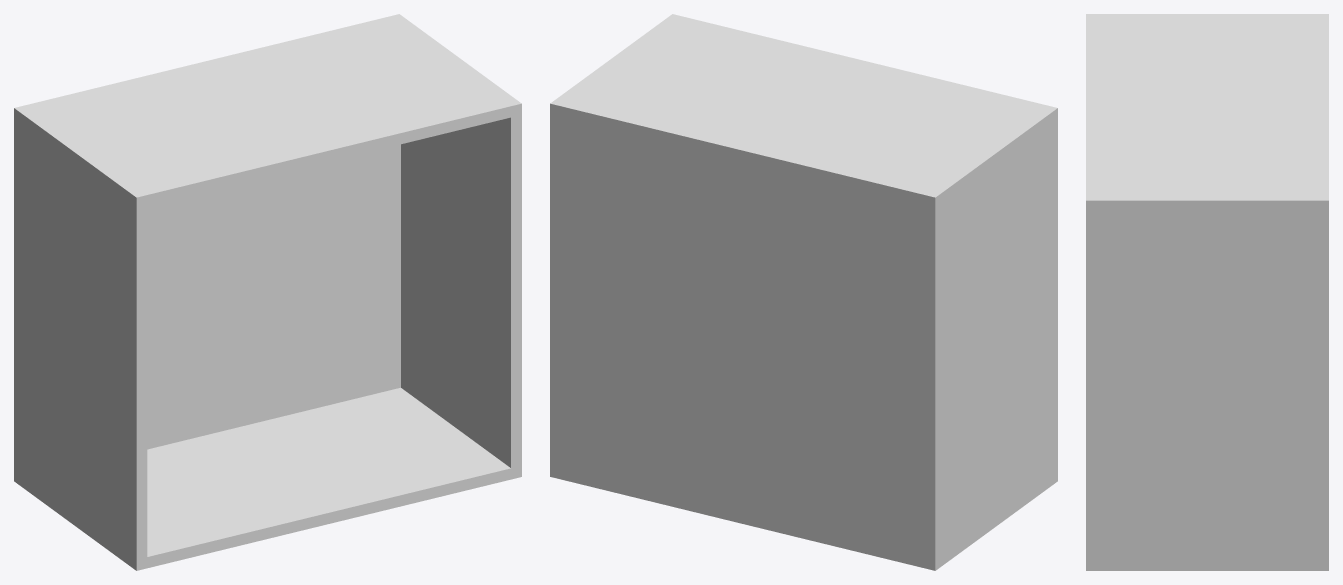
Rendered from Itr_Shelf1_Body_01.FBX.
The picture shows the model from 3 angles, left to right: view 1: azimuth 30°, elevation 25°; view 2: azimuth 150°, elevation 25°; view 3: azimuth 270°, elevation 25°; orthographic projection.
Parts seen in each view (by area): view 1: Itr_Shelf1_Body_01; view 2: Itr_Shelf1_Body_01; view 3: Itr_Shelf1_Body_01.
Part boxes in pixels (x1,y1,x2,y2): Itr_Shelf1_Body_01: (14,14,521,570); Itr_Shelf1_Body_01: (550,14,1057,570); Itr_Shelf1_Body_01: (1086,14,1328,570).
Bounding box in the file's own units: 45.91 × 42.5 × 25.26.
